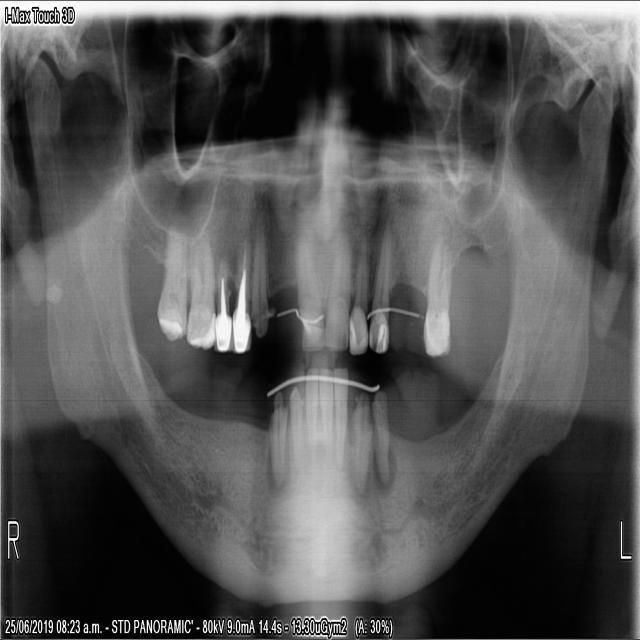LCU: (368, 218, 392, 354)
LID: (330, 364, 348, 474)
LIU: (323, 223, 353, 355), (348, 226, 370, 357)
LMU: (420, 236, 452, 360)
RCU: (249, 208, 268, 341)
RID: (318, 364, 333, 471), (303, 362, 317, 472)
RIU: (295, 229, 323, 352)
RMU: (183, 222, 214, 352), (153, 220, 185, 344)
RPMU: (230, 230, 251, 353), (212, 242, 231, 352)
